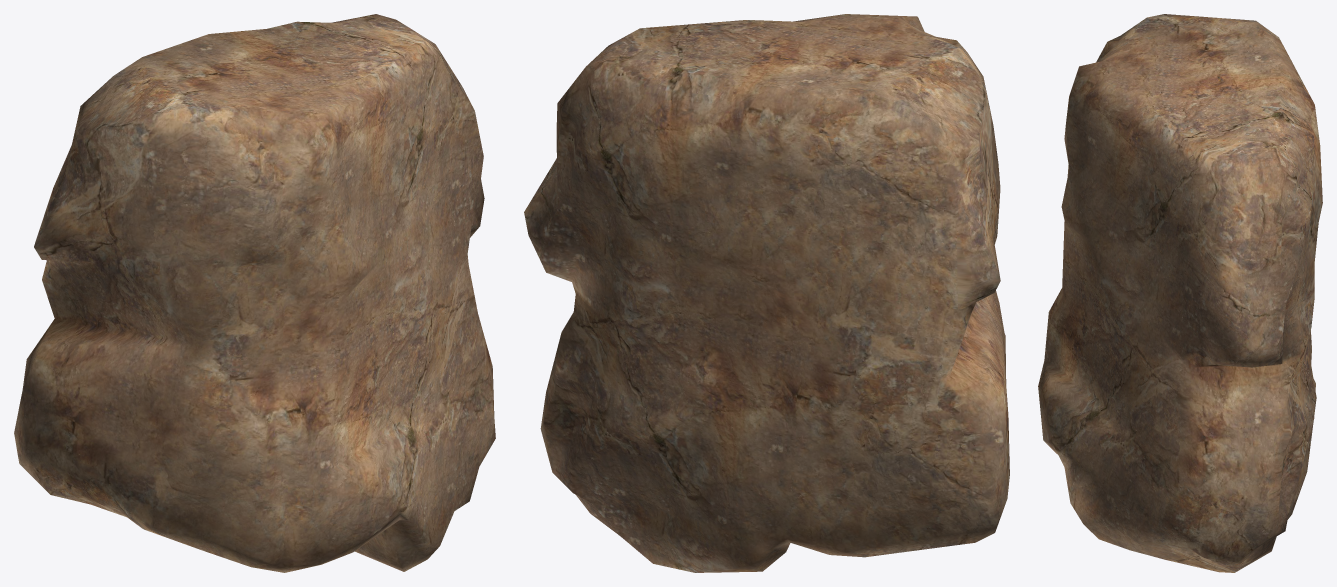
The model's file is Rock.glb.
3 renders of one model, left to right at view 1: azimuth 30°, elevation 25°; view 2: azimuth 150°, elevation 25°; view 3: azimuth 270°, elevation 25°, orthographic. The views are drawn at different scales.
Visible parts, largest first — view 1: Rock_6; view 2: Rock_6; view 3: Rock_6.
Part boxes in pixels (x1=…): Rock_6: x1=14, y1=14, x2=495, y2=572; Rock_6: x1=524, y1=14, x2=1009, y2=572; Rock_6: x1=1038, y1=14, x2=1322, y2=572.
Bounding box in the file's own units: 4.32 × 4.64 × 2.64.
Materials: 1 (1 with a texture image).
